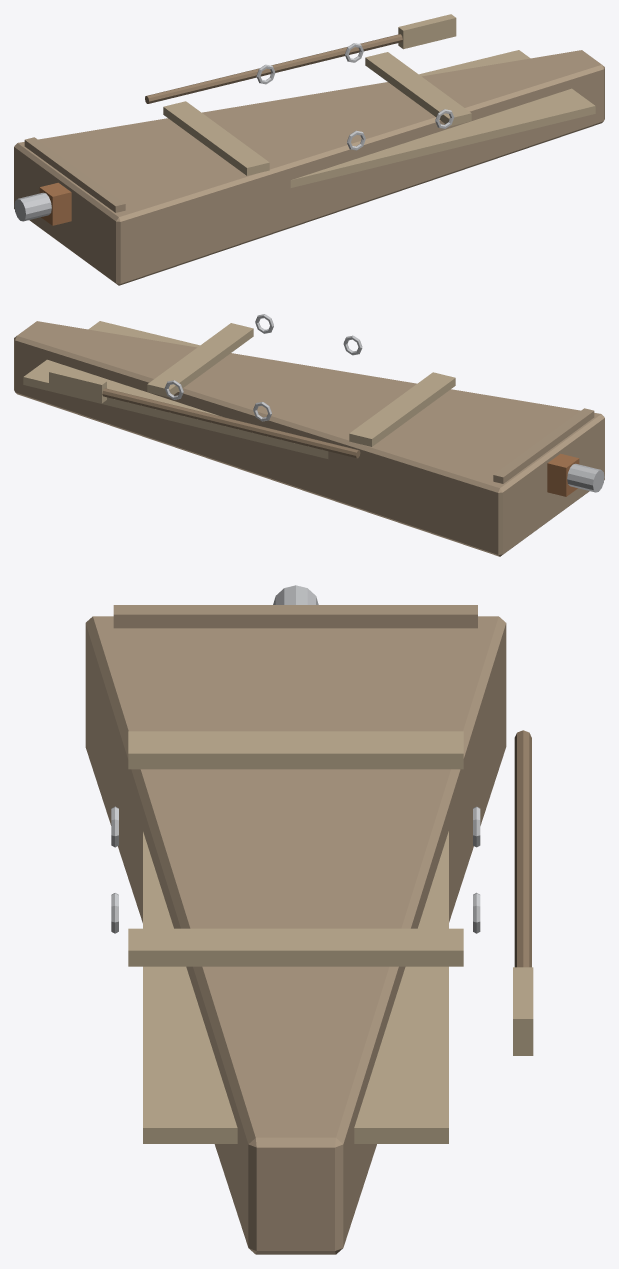
File: LL_Boat.fbx
3 views of the same model, one above another, from view 1: azimuth 30°, elevation 25°; view 2: azimuth 150°, elevation 25°; view 3: azimuth 270°, elevation 25° (orthographic). The views are drawn at different scales.
Parts seen in each view (by area): view 1: LL_Boat_Hull, LL_Boat_Floor, LL_Boat_Seat_-9, LL_Boat_Seat_7, LL_Boat_Oar, LL_Boat_Transom, LL_Boat_OarBlade, LL_Boat_MotorBracket, LL_Boat_MotorShaft; view 2: LL_Boat_Hull, LL_Boat_Floor, LL_Boat_Seat_-9, LL_Boat_Seat_7, LL_Boat_Oar, LL_Boat_Transom, LL_Boat_OarBlade, LL_Boat_MotorBracket, LL_Boat_MotorShaft; view 3: LL_Boat_Hull, LL_Boat_Floor, LL_Boat_Seat_-9, LL_Boat_Seat_7, LL_Boat_Transom, LL_Boat_Oar, LL_Boat_OarBlade.
Boxes of the visible parts, x1,y1,x2,y2 form: LL_Boat_Hull: (14, 50, 604, 285); LL_Boat_Floor: (290, 50, 595, 187); LL_Boat_Seat_-9: (163, 101, 269, 175); LL_Boat_Seat_7: (365, 52, 471, 126); LL_Boat_Oar: (145, 34, 402, 103); LL_Boat_Transom: (24, 137, 125, 212); LL_Boat_OarBlade: (398, 14, 456, 49); LL_Boat_MotorBracket: (39, 182, 71, 225); LL_Boat_MotorShaft: (14, 192, 51, 221); LL_Boat_Hull: (14, 321, 604, 556); LL_Boat_Floor: (23, 321, 328, 458); LL_Boat_Seat_-9: (349, 372, 455, 446); LL_Boat_Seat_7: (147, 323, 253, 397); LL_Boat_Oar: (102, 388, 360, 458); LL_Boat_Transom: (493, 408, 594, 483); LL_Boat_OarBlade: (49, 368, 106, 403); LL_Boat_MotorBracket: (547, 453, 579, 496); LL_Boat_MotorShaft: (567, 463, 604, 492); LL_Boat_Hull: (85, 616, 506, 1254); LL_Boat_Floor: (143, 831, 448, 1143); LL_Boat_Seat_-9: (128, 731, 463, 769); LL_Boat_Seat_7: (128, 928, 463, 966); LL_Boat_Transom: (113, 605, 477, 628); LL_Boat_Oar: (514, 730, 531, 967); LL_Boat_OarBlade: (513, 967, 533, 1055).
Bounding box in the file's own units: 4.55 × 0.6948 × 1.54.
